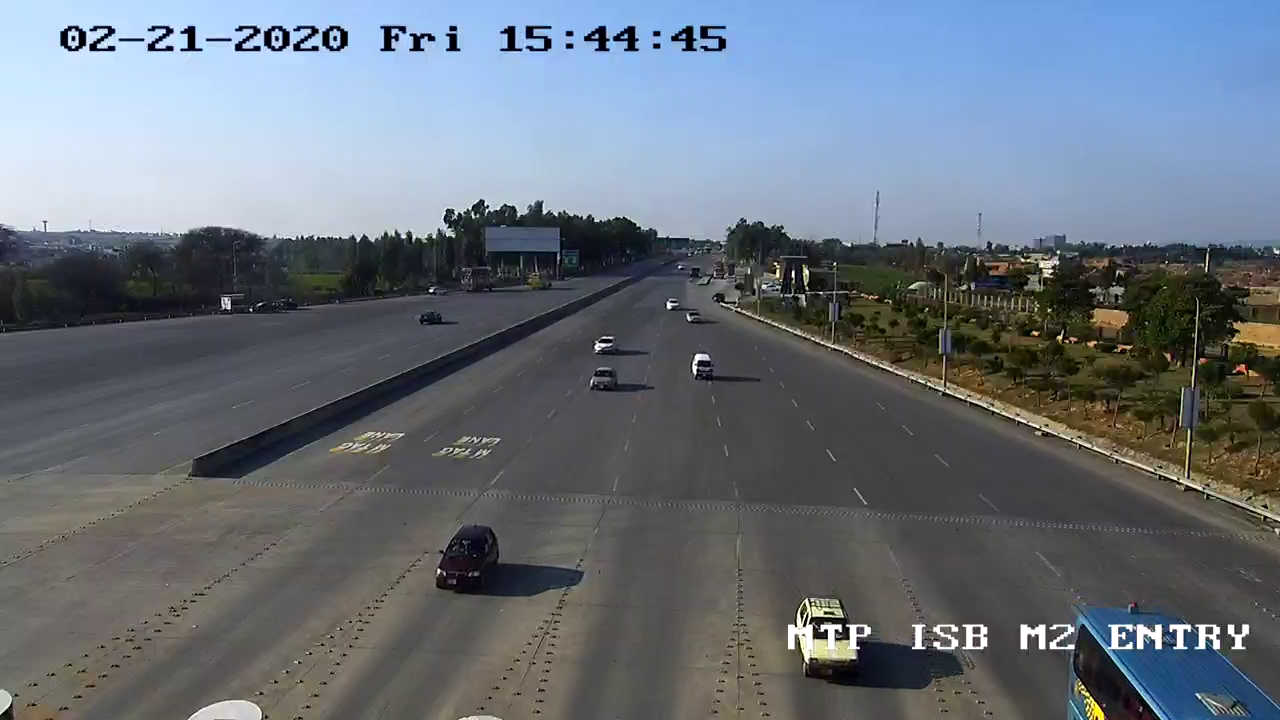f1: (420, 519, 511, 608)
